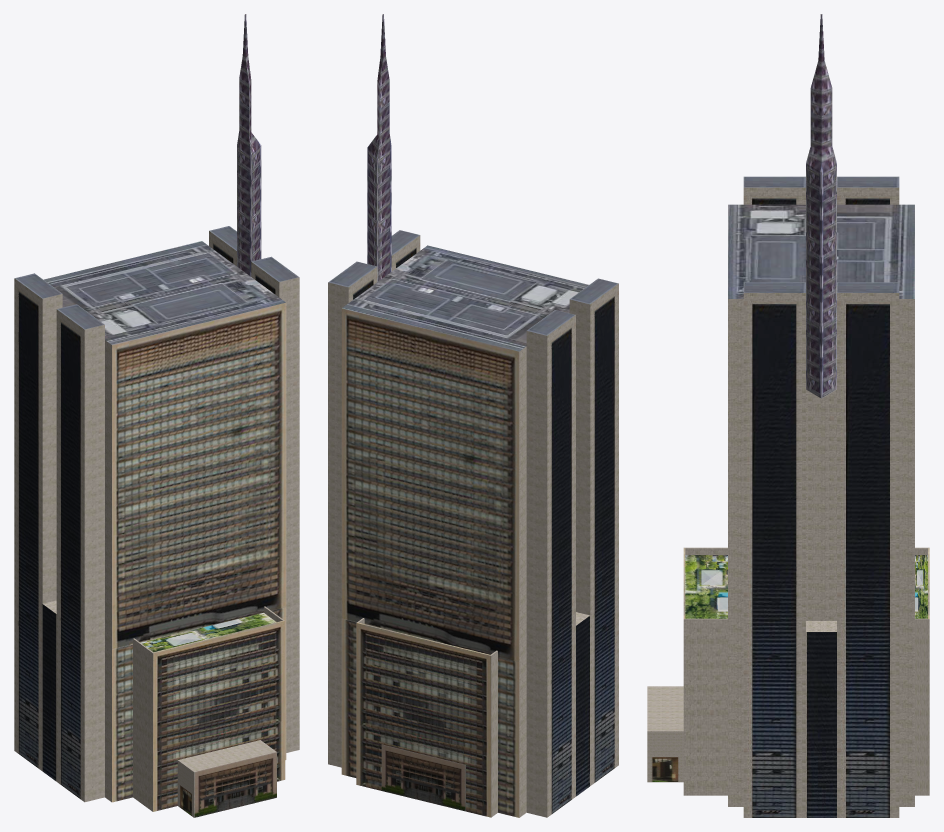
The picture shows the model from 3 angles, left to right: view 1: azimuth 30°, elevation 25°; view 2: azimuth 150°, elevation 25°; view 3: azimuth 270°, elevation 25°; orthographic projection. The views are drawn at different scales.
Visible parts, largest first — view 1: HN436___Cuc_Vien_Thong; view 2: HN436___Cuc_Vien_Thong; view 3: HN436___Cuc_Vien_Thong.
Part boxes in pixels (left/top/right/bottom): HN436___Cuc_Vien_Thong: left=14, top=14, right=299, bottom=817; HN436___Cuc_Vien_Thong: left=328, top=14, right=618, bottom=817; HN436___Cuc_Vien_Thong: left=647, top=14, right=929, bottom=817.
Size of the model in its own units: 53 by 168 by 54.38.
Materials: 1 (1 with a texture image).
